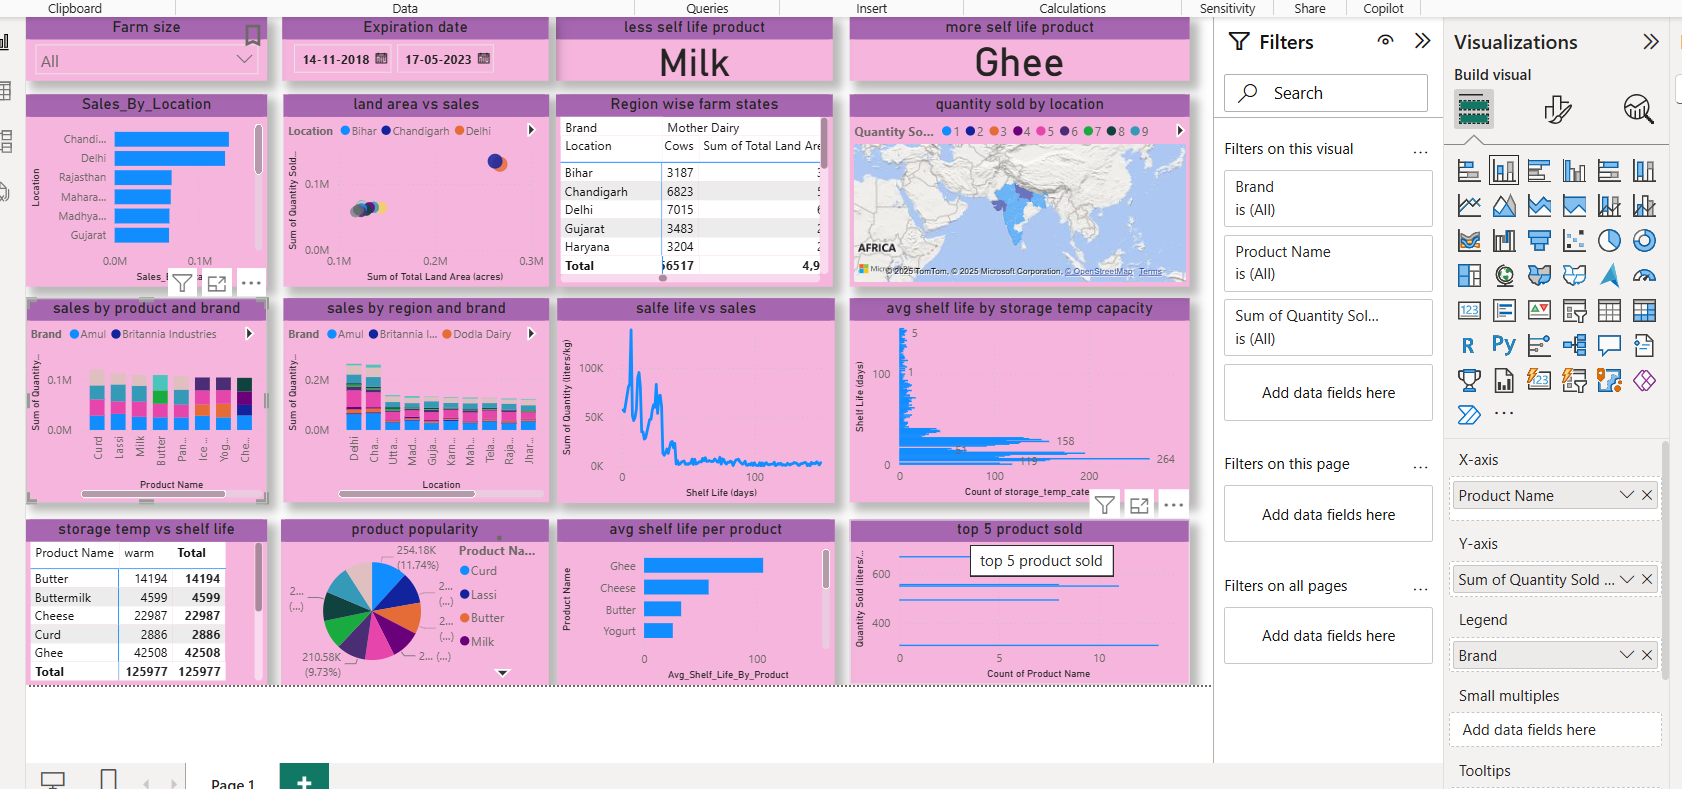

The page's visual inventory and layout, read from the dashboard file:
{"tool":"powerbi","page":{"name":"Page 1","canvas":[1280,720],"ordinal":0},"visuals":[{"type":"clusteredBarChart","title":"Sales_By_Location","fields":{"Category":["dairy_dataset.Location"],"Y":["dairy_dataset.Sales_By_Location"]},"box":[0,83.8,260,207.5],"z":0},{"type":"scatterChart","title":"land area vs sales","fields":{"X":["Sum(dairy_dataset.Total Land Area (acres))"],"Y":["Sum(dairy_dataset.Quantity Sold (liters/kg))"],"Size":["Sum(dairy_dataset.Number of Cows)"],"Series":["dairy_dataset.Location"]},"box":[277.5,83.8,286.2,207.5],"z":1000},{"type":"pivotTable","title":"Region wise farm states","fields":{"Rows":["dairy_dataset.Location"],"Columns":["dairy_dataset.Brand"],"Values":["Sum(dairy_dataset.Quantity Sold (liters/kg))","Sum(dairy_dataset.Number of Cows)","Sum(dairy_dataset.Total Land Area (acres))"]},"box":[571.2,83.8,298.8,207.5],"z":2000},{"type":"columnChart","title":"sales by product and brand","fields":{"Category":["dairy_dataset.Product Name"],"Y":["Sum(dairy_dataset.Quantity Sold (liters/kg))"],"Series":["dairy_dataset.Brand"]},"box":[0,303.8,260,220],"z":3000},{"type":"columnChart","title":"sales by region and brand","fields":{"Category":["dairy_dataset.Location"],"Y":["Sum(dairy_dataset.Quantity (liters/kg))"],"Series":["dairy_dataset.Brand"]},"box":[277.5,303.8,286.2,220],"z":4000},{"type":"lineChart","title":"salfe life vs  sales","fields":{"Category":["dairy_dataset.Shelf Life (days)"],"Y":["Sum(dairy_dataset.Quantity (liters/kg))"]},"box":[571.2,302.5,298.8,220],"z":5000},{"type":"barChart","title":"avg shelf life by storage temp capacity","fields":{"Y":["CountNonNull(dairy_dataset.storage_temp_category)"],"Category":["dairy_dataset.Shelf Life (days)"]},"box":[888.1,303.2,366.6,219.7],"z":6000},{"type":"pivotTable","title":"storage temp vs shelf life","fields":{"Rows":["dairy_dataset.Product Name"],"Values":["Sum(dairy_dataset.Shelf Life (days))"],"Columns":["dairy_dataset.storage_temp_category"]},"box":[0,541.2,260,178.8],"z":7000},{"type":"pieChart","title":"product popularity","fields":{"Category":["dairy_dataset.Product Name"],"Y":["Sum(dairy_dataset.Quantity (liters/kg))"]},"box":[275,541.2,288.8,178.8],"z":8000},{"type":"barChart","title":"top 5 product sold","fields":{"Y":["CountNonNull(dairy_dataset.Product Name)"],"Category":["dairy_dataset.Quantity Sold (liters/kg)"]},"box":[888.1,541.8,366.6,177.9],"z":9000},{"type":"filledMap","title":"quantity sold by location","fields":{"Category":["dairy_dataset.Customer Location"],"Series":["dairy_dataset.Quantity Sold (liters/kg)"]},"box":[888.1,83.6,366.6,207.5],"z":10000},{"type":"barChart","title":"avg shelf life per product","fields":{"Category":["dairy_dataset.Product Name"],"Y":["dairy_dataset.Avg_Shelf_Life_By_Product"]},"box":[572.2,541.1,298.9,178.9],"z":11000},{"type":"card","title":"more self life product","fields":{"Values":["dairy_dataset.Top_Shelf_Life_Product"]},"box":[888.1,0,366.6,68.7],"z":12000},{"type":"card","title":"less self life product","fields":{"Values":["dairy_dataset.Bottom_Shelf_Life_Product"]},"box":[571.2,0,298.8,68.8],"z":13000},{"type":"slicer","title":"Expiration date","fields":{"Values":["dairy_dataset.Expiration Date"]},"box":[276.2,0,287.5,68.8],"z":14000},{"type":"slicer","title":"Farm size","fields":{"Values":["dairy_dataset.Farm Size"]},"box":[0,0,260,68.8],"z":15000},{"type":"actionButton","box":[503.8,541.2,12.5,40],"z":16000},{"type":"actionButton","box":[228.8,0,31.2,40],"z":17000}]}

Visuals, with their boxes on the page's 1280x720 design canvas (x1, y1, x2, y2). These are canvas units, not pixel positions in the 1682x789 screenshot, which may show the page scaled, cropped or inside an application window:
"Sales_By_Location" clusteredBarChart: locate(0, 84, 260, 291)
"land area vs sales" scatterChart: locate(278, 84, 564, 291)
"Region wise farm states" pivotTable: locate(571, 84, 870, 291)
"sales by product and brand" columnChart: locate(0, 304, 260, 524)
"sales by region and brand" columnChart: locate(278, 304, 564, 524)
"salfe life vs  sales" lineChart: locate(571, 302, 870, 522)
"avg shelf life by storage temp capacity" barChart: locate(888, 303, 1255, 523)
"storage temp vs shelf life" pivotTable: locate(0, 541, 260, 720)
"product popularity" pieChart: locate(275, 541, 564, 720)
"top 5 product sold" barChart: locate(888, 542, 1255, 720)
"quantity sold by location" filledMap: locate(888, 84, 1255, 291)
"avg shelf life per product" barChart: locate(572, 541, 871, 720)
"more self life product" card: locate(888, 0, 1255, 69)
"less self life product" card: locate(571, 0, 870, 69)
"Expiration date" slicer: locate(276, 0, 564, 69)
"Farm size" slicer: locate(0, 0, 260, 69)
actionButton: locate(504, 541, 516, 581)
actionButton: locate(229, 0, 260, 40)
